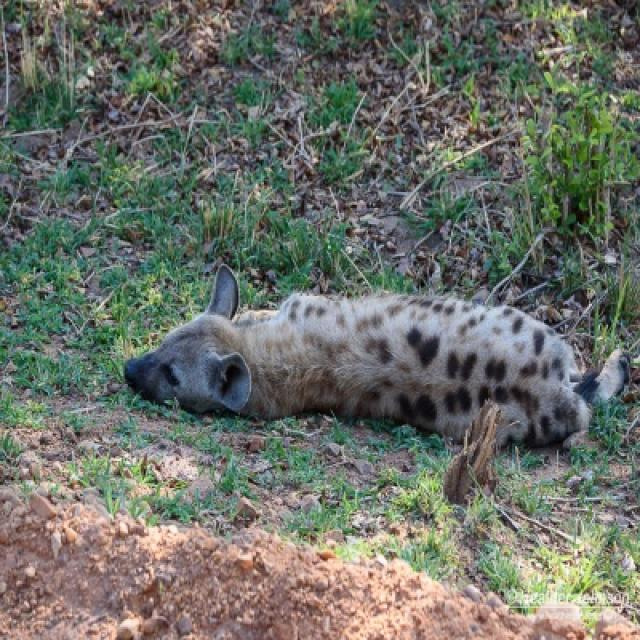hyena: (120, 264, 632, 504)
